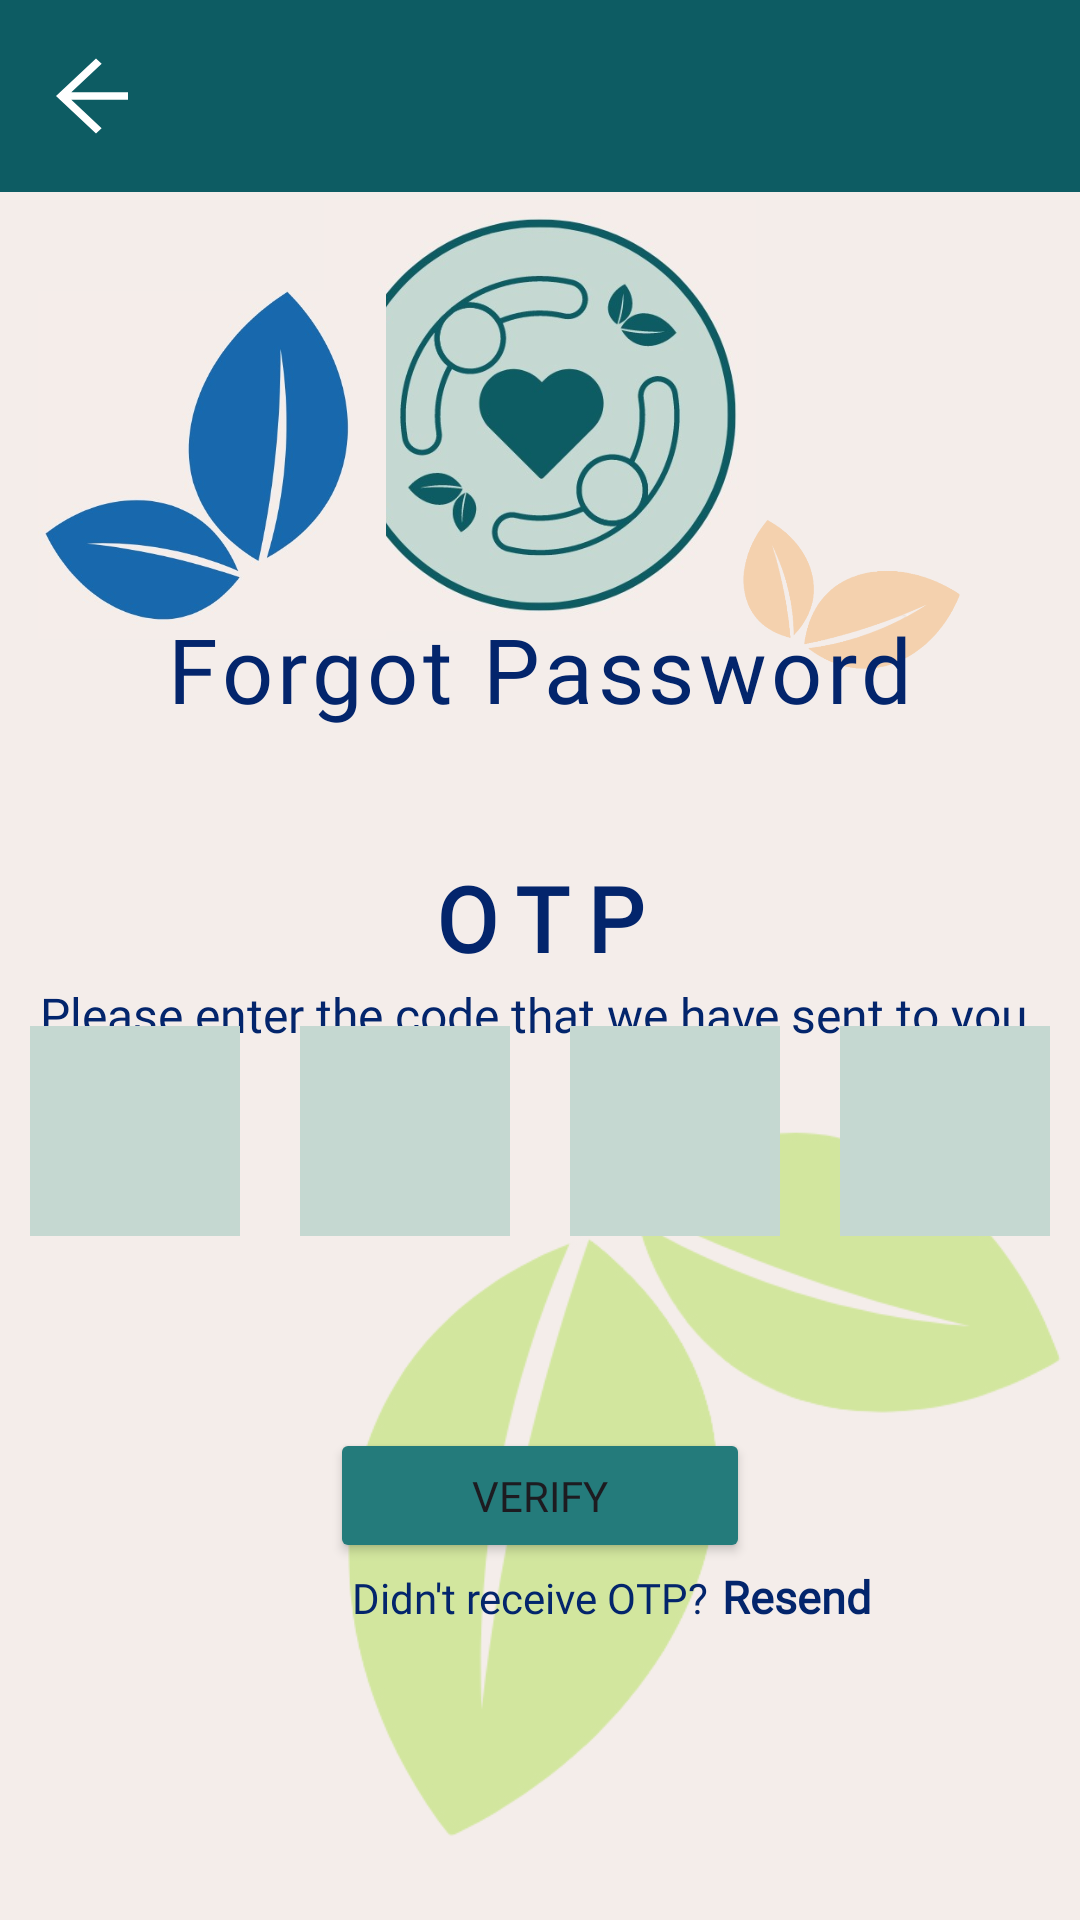

Point at icon controls on the screen. Image size 1080px×1920px, points as point (x, y).
Back: point (92, 96)
